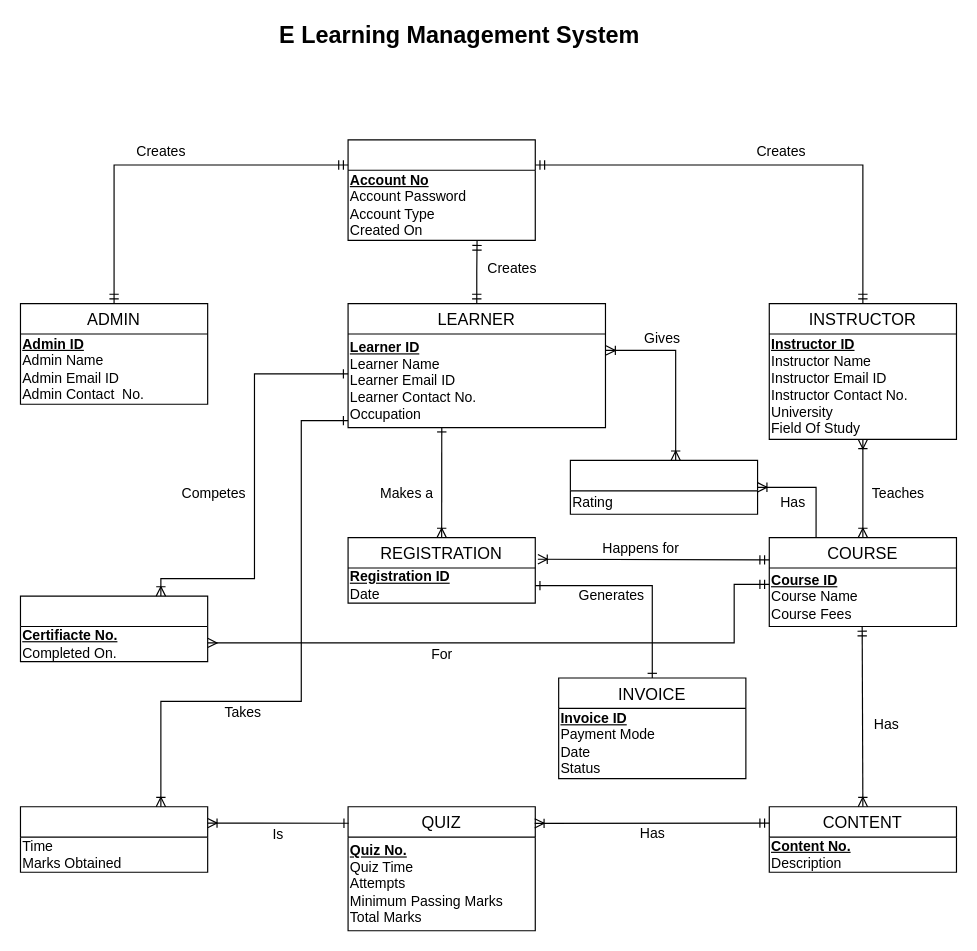
Some shapes in this 977 by 951 pixel diagram are drawn without their labels. The box of each missing label's shape, as (x1, y1, x2, y2) in pixels:
CERTIFICATE: (19, 595, 208, 662)
COURSE RATING: (569, 459, 758, 514)
QUIZ TAKEN: (19, 806, 208, 872)
USER ACCOUNT: (347, 139, 535, 240)
